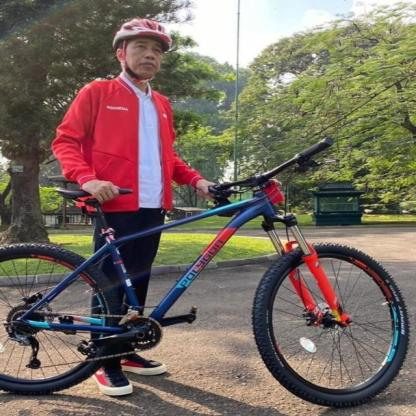Bike: (3, 132, 410, 406)
